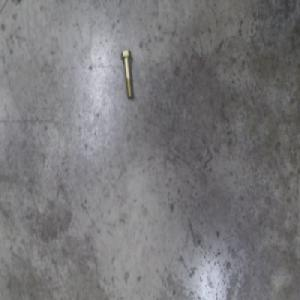Bolt: (122, 47, 135, 97)
